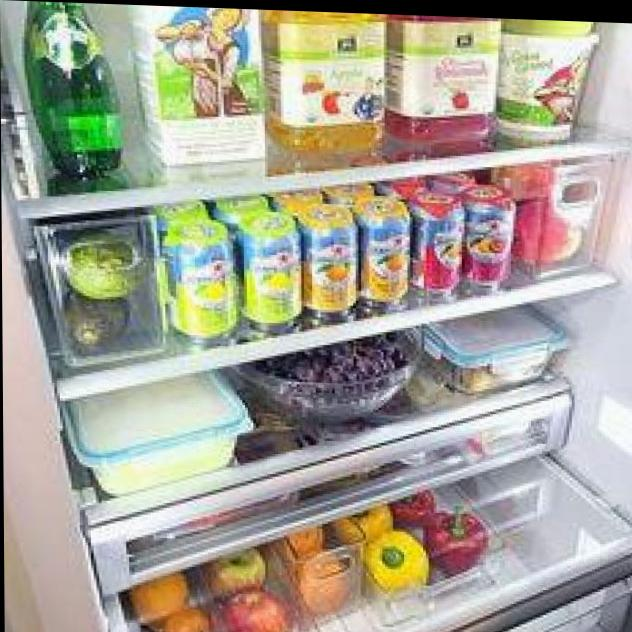apple: (227, 588, 287, 632), (214, 550, 264, 596)
blueberries: (280, 344, 403, 410)
mineral water: (27, 1, 127, 173)
orange: (137, 570, 193, 626), (161, 608, 206, 632)
red bell pepper: (428, 513, 488, 572), (396, 491, 436, 531)
yellow bell pepper: (366, 531, 428, 588), (333, 504, 390, 543)
